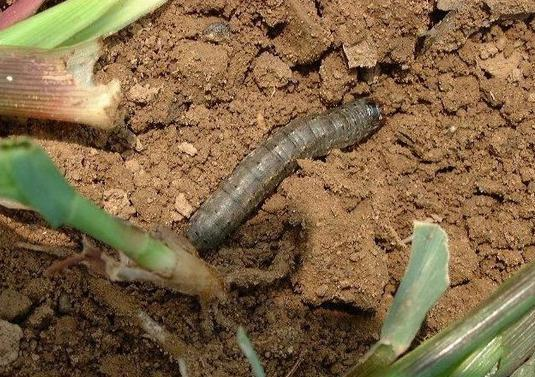caterpillars: (166, 63, 411, 269)
